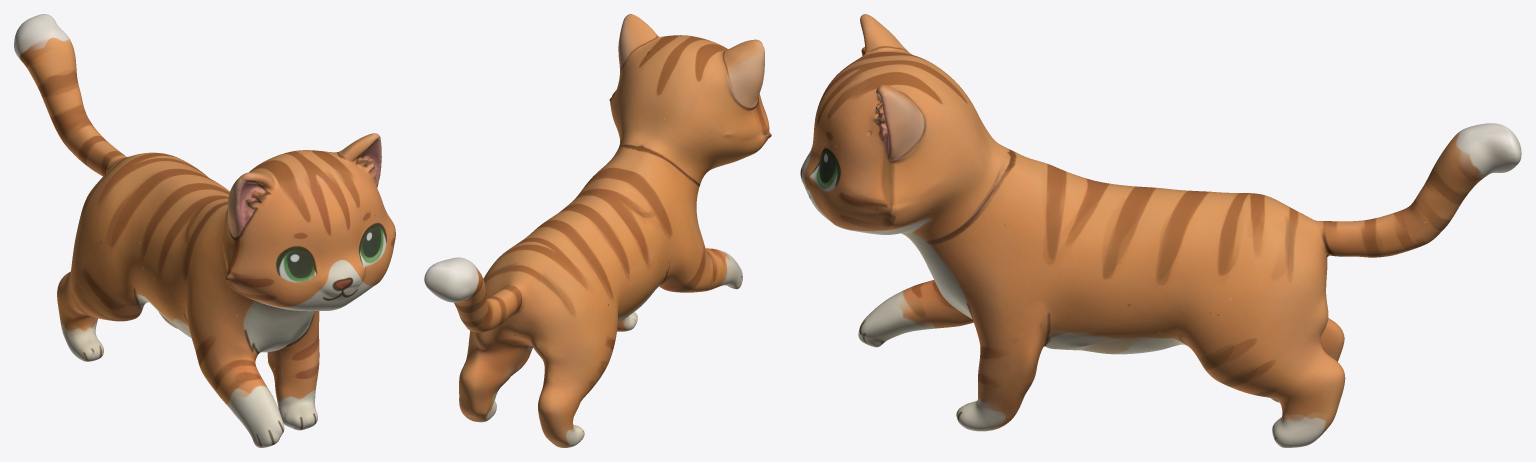
The model's file is pet_cat_walk_1.glb.
The picture shows the model from 3 angles, left to right: view 1: azimuth 30°, elevation 25°; view 2: azimuth 150°, elevation 25°; view 3: azimuth 270°, elevation 25°; orthographic projection. The views are drawn at different scales.
Size of the model in its own units: 0.6322 by 1.14 by 2.
1 material, 1 textured.
